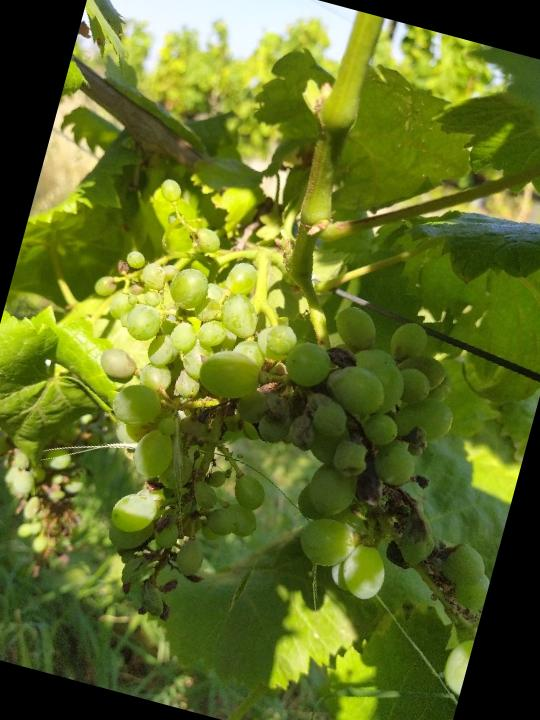grape: (14, 168, 540, 707)
